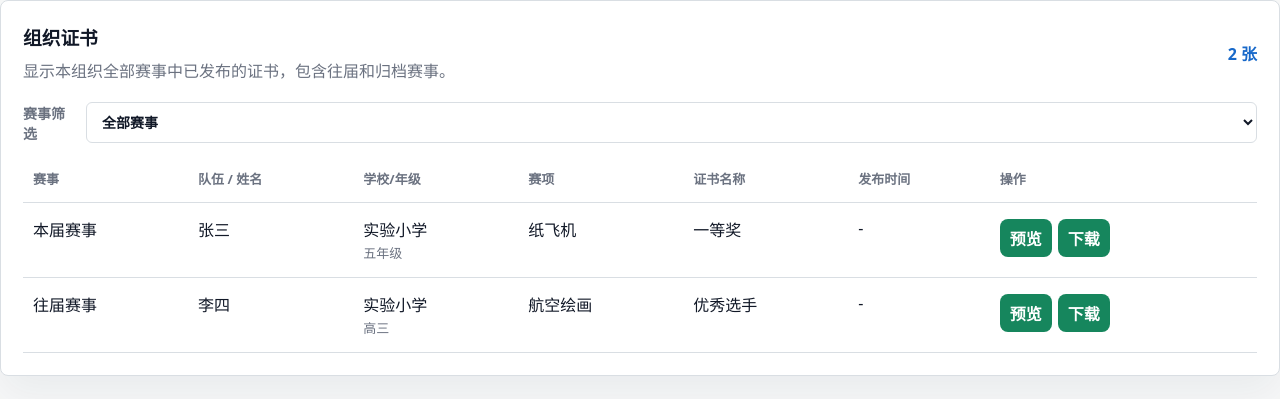
Test case: OrganizationCertificatesPage › loads cross-event organization certificates immediately and filters by event
Select "往届赛事" in the dropdown labelled "赛事筛选" at [672, 122], box x1=86 y1=102 x2=1257 y2=143
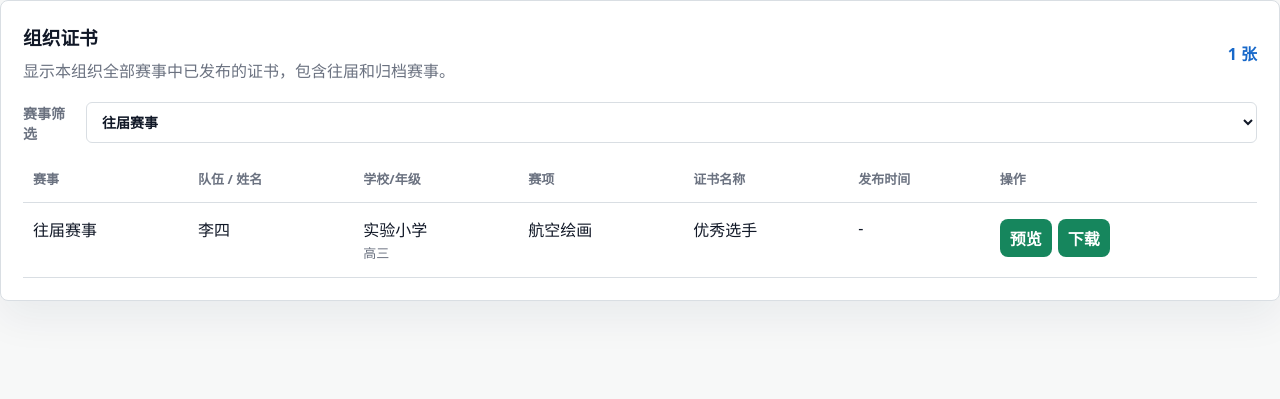
Expected: the table shows "往届赛事", x1=33 y1=219 x2=97 y2=241
Now the cell no longer shows "本届赛事"
